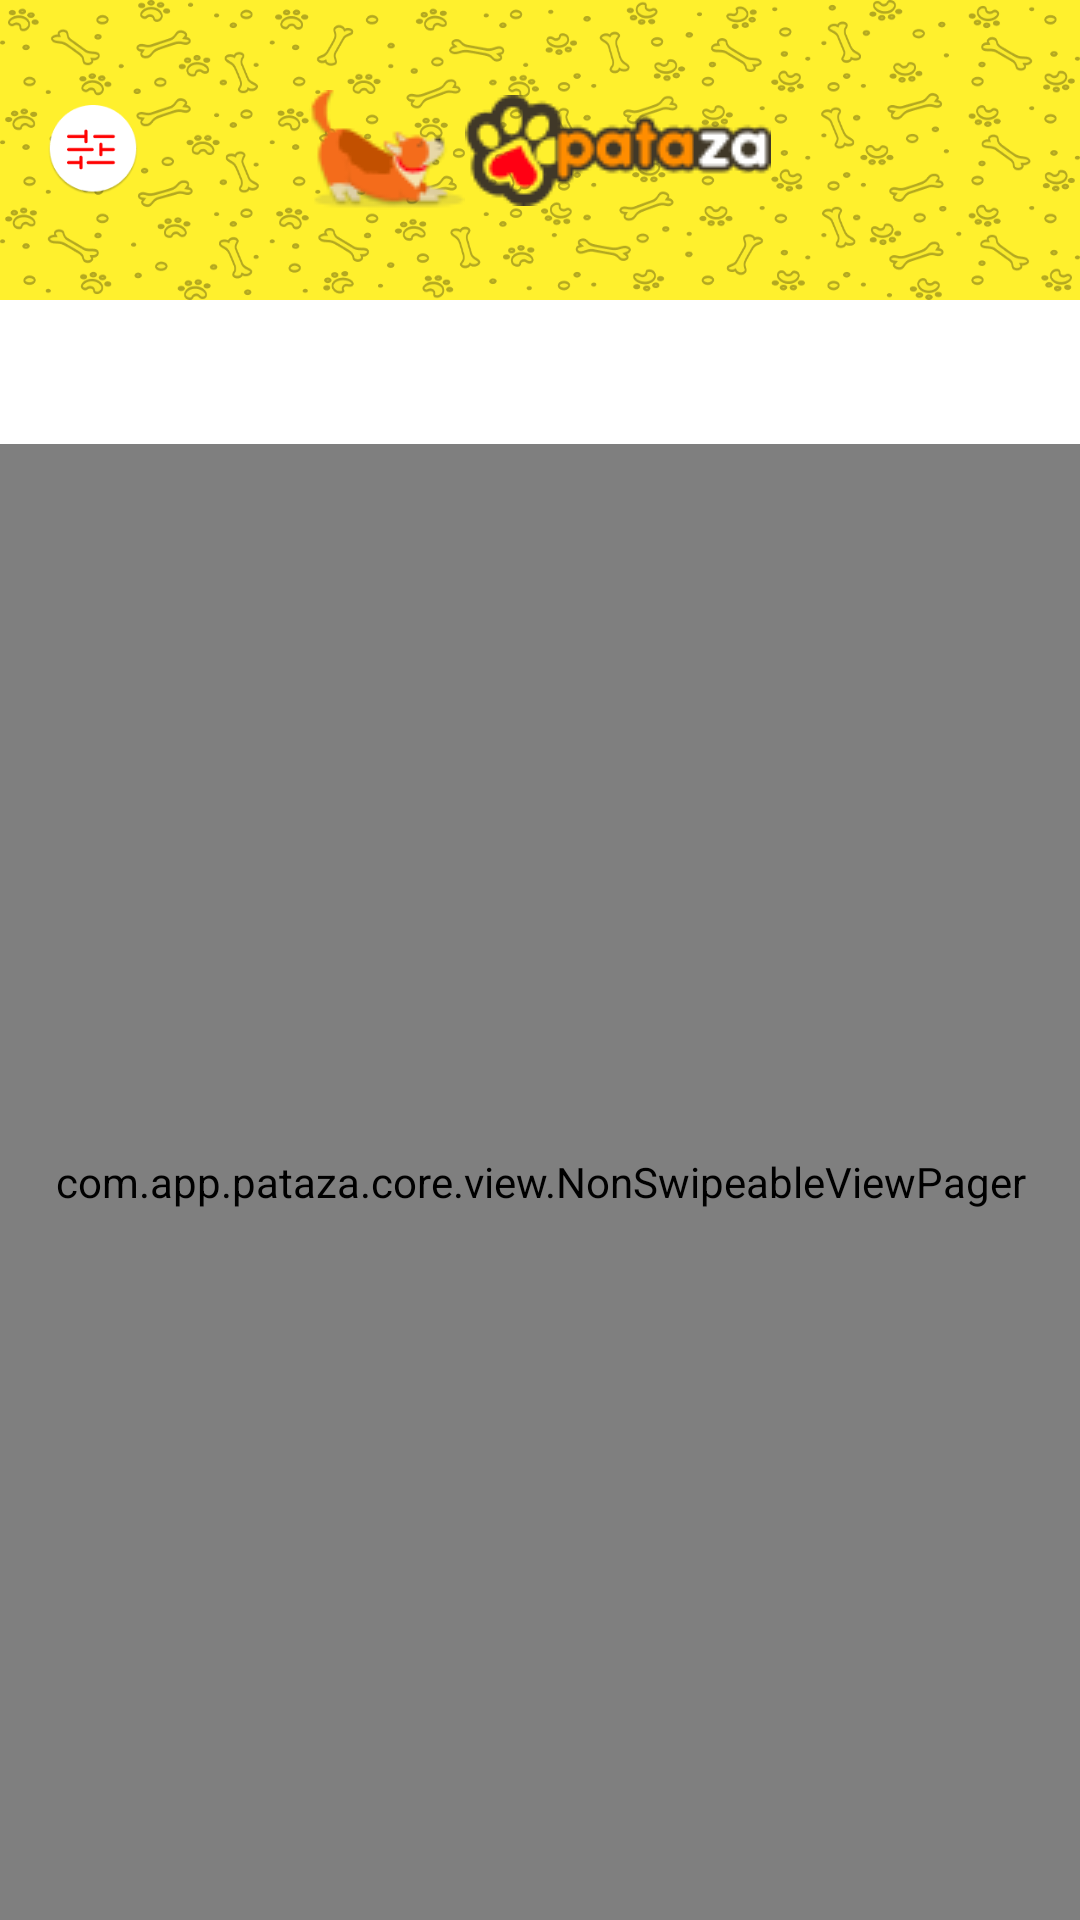

Icons on this 1080 x 1920 Android screen, each with the point to tap as (x,y):
filter: (92,150)
